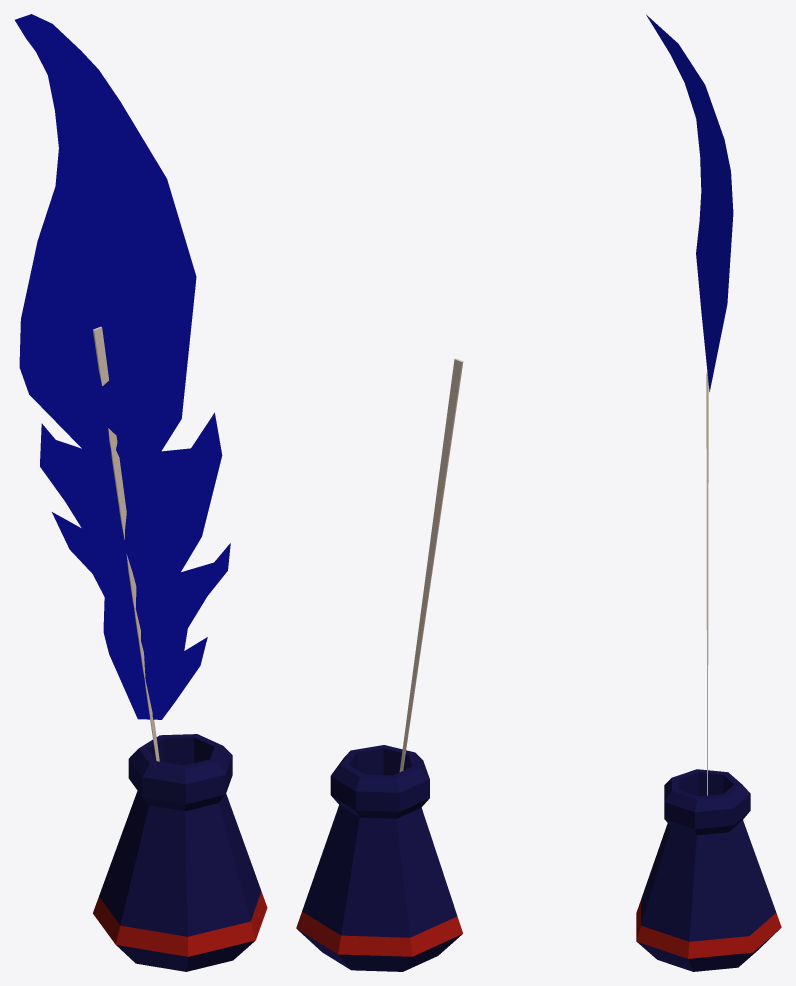
The model's file is pen.glb.
3 renders of one model, left to right at view 1: azimuth 30°, elevation 25°; view 2: azimuth 150°, elevation 25°; view 3: azimuth 270°, elevation 25°, orthographic. The views are drawn at different scales.
Visible parts, largest first — view 1: Plane, Cylinder, Cube; view 2: Cylinder, Cube; view 3: Cylinder, Plane, Cube.
Part boxes in pixels (x1,y1,x2,y2): Plane: (15, 14, 230, 719); Cylinder: (93, 734, 267, 971); Cube: (93, 326, 159, 761); Cylinder: (296, 745, 462, 971); Cube: (399, 358, 463, 771); Cylinder: (636, 769, 781, 971); Plane: (646, 14, 733, 391); Cube: (706, 372, 708, 795).
Bounding box in the file's own units: 0.8199 × 2.82 × 0.4364.
